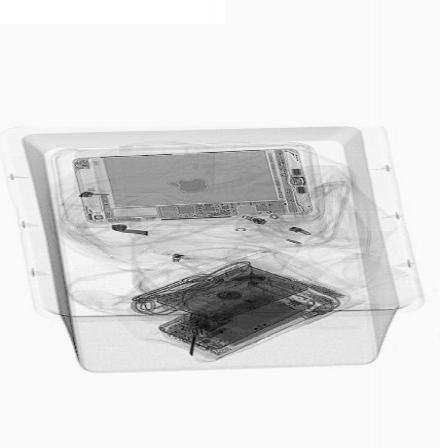Powerbank: (179, 292, 320, 348)
